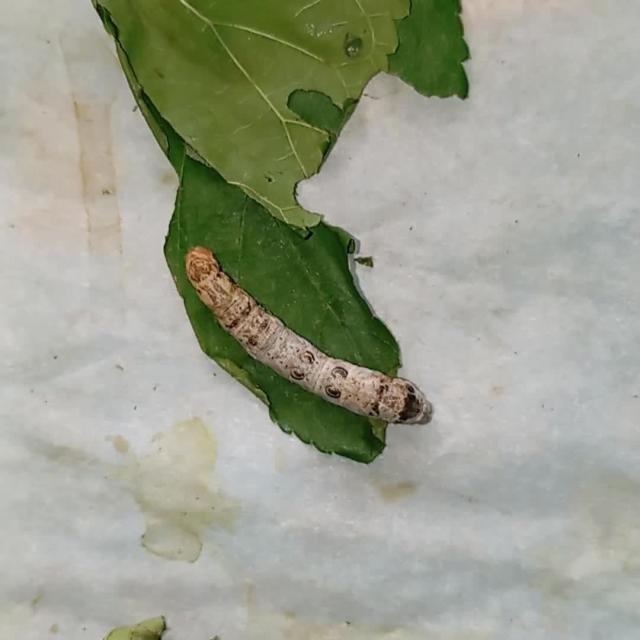Grasserie: (168, 230, 456, 468)
